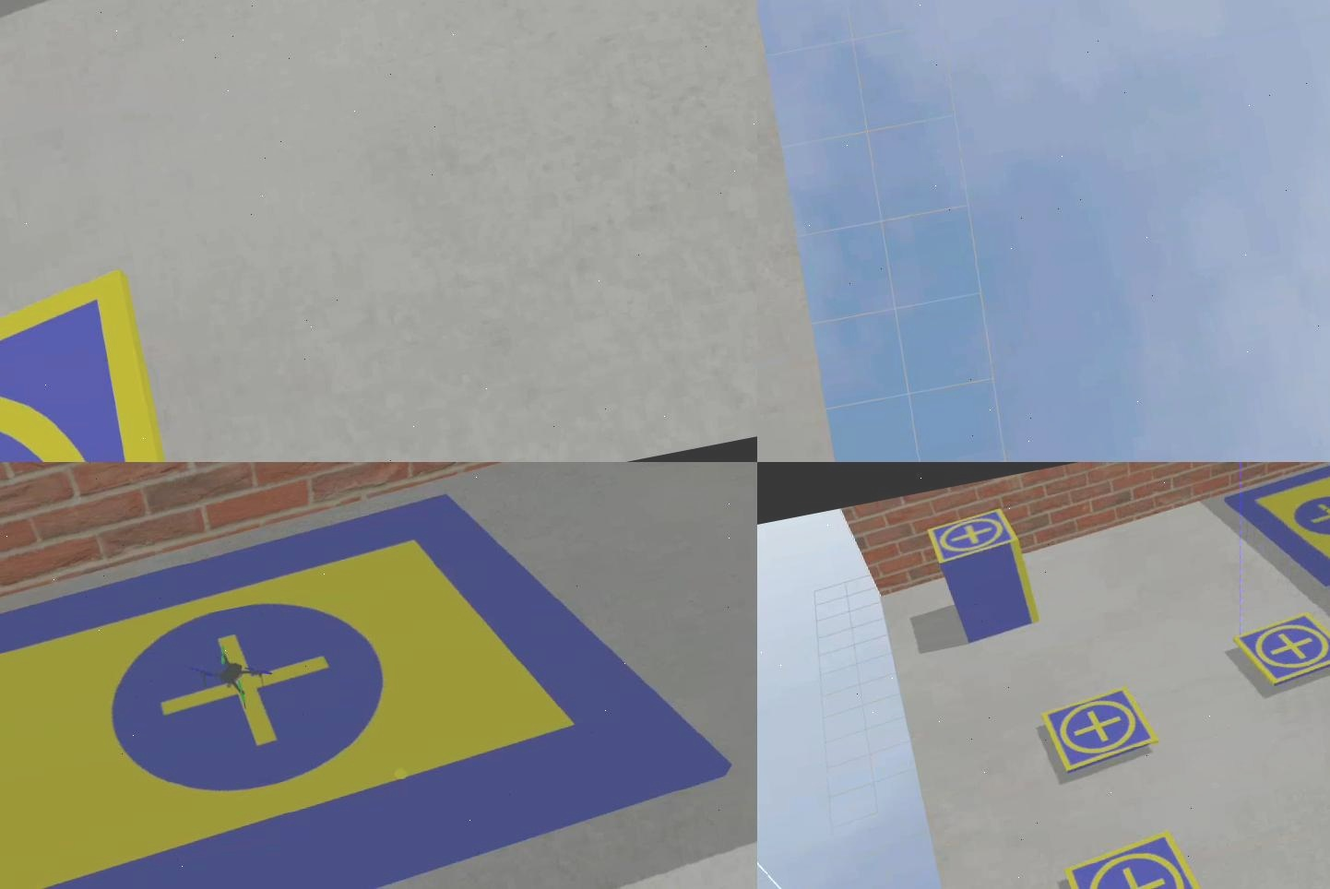large_base: (1, 462, 751, 889), (1219, 462, 1330, 610)
small_base: (1, 269, 186, 462), (1038, 684, 1163, 783), (1062, 827, 1217, 889), (1234, 609, 1330, 697), (924, 505, 1023, 567)
